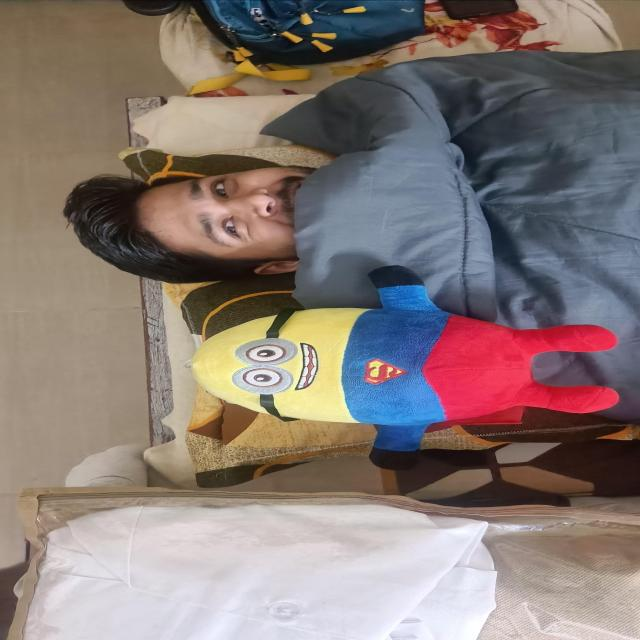minion: (190, 278, 614, 460)
